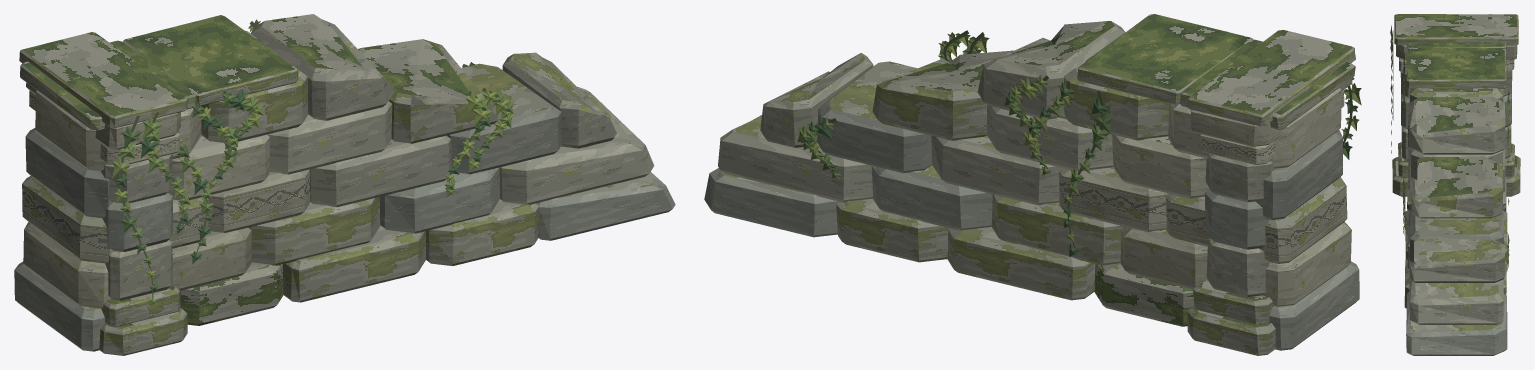
Rendered from ruin_wall.glb.
3 renders of one model, left to right at view 1: azimuth 30°, elevation 25°; view 2: azimuth 150°, elevation 25°; view 3: azimuth 270°, elevation 25°, orthographic. The views are drawn at different scales.
Visible parts, largest first — view 1: ruin_wall; view 2: ruin_wall; view 3: ruin_wall.
Part boxes in pixels (box(x1,y1,x2,y2)): ruin_wall: box(14, 14, 675, 355); ruin_wall: box(704, 14, 1361, 355); ruin_wall: box(1390, 14, 1520, 355).
Bounding box in the file's own units: 5.45 × 2.11 × 1.57.
2 materials, 1 textured.
